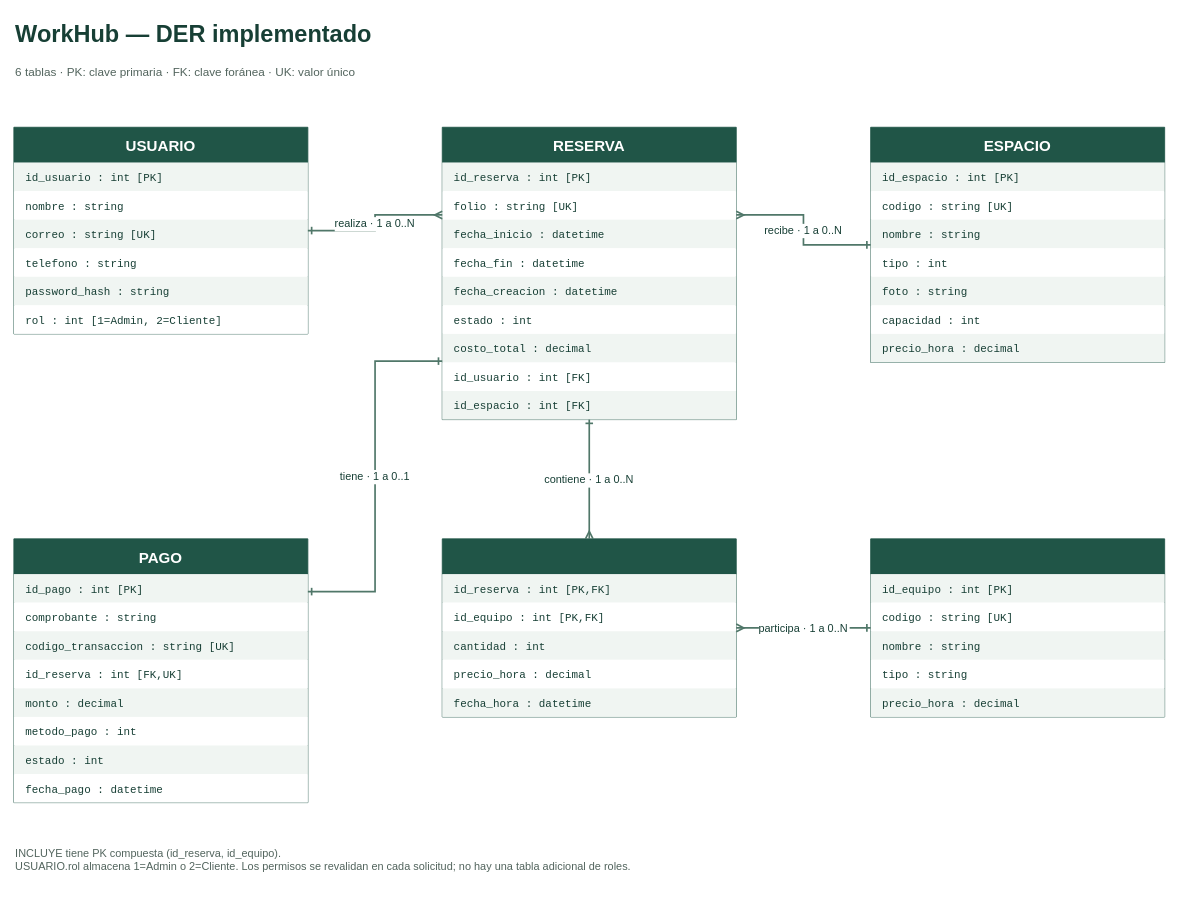
Some shapes in this 1204 by 901 pixel diagram are drawn without their labels. The shapes that lost their labels are listed below. From the top down, each one's box as (x1, y1, x2, y2) in pixels, then its label:
(441, 538, 736, 717): INCLUYE
(870, 538, 1165, 717): EQUIPAMIENTO
